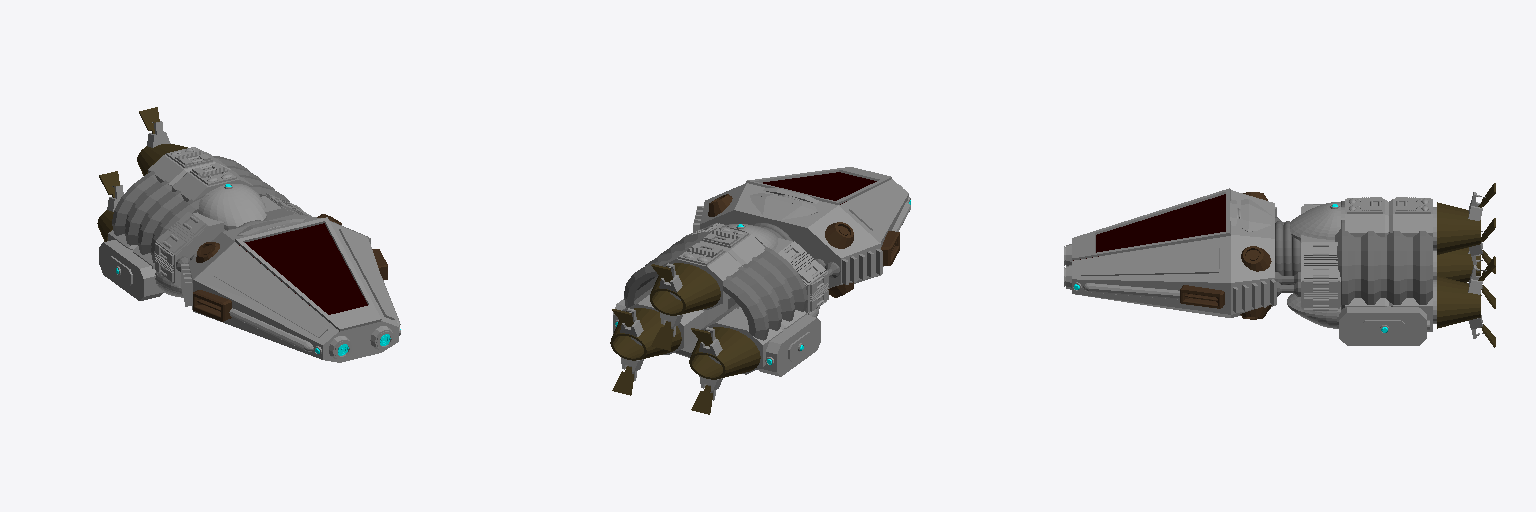
File: pod.obj
3 views of the same model, side by side, from view 1: azimuth 30°, elevation 25°; view 2: azimuth 150°, elevation 25°; view 3: azimuth 270°, elevation 25° (orthographic).
Parts seen in each view (by area): view 1: 3DSMesh_4_4, 3DSMesh_5_5, 3DSMesh_0_0, 3DSMesh_7_7, 3DSMesh_6_6, 3DSMesh_1_1; view 2: 3DSMesh_4_4, 3DSMesh_6_6, 3DSMesh_7_7, 3DSMesh_5_5, 3DSMesh_0_0, 3DSMesh_1_1; view 3: 3DSMesh_4_4, 3DSMesh_7_7, 3DSMesh_6_6, 3DSMesh_5_5, 3DSMesh_0_0, 3DSMesh_1_1.
Boxes of the visible parts, x1,y1,x2,y2 form: 3DSMesh_4_4: [99, 121, 400, 362]; 3DSMesh_5_5: [155, 147, 400, 351]; 3DSMesh_0_0: [239, 223, 367, 314]; 3DSMesh_7_7: [112, 156, 289, 271]; 3DSMesh_6_6: [97, 107, 187, 241]; 3DSMesh_1_1: [193, 214, 387, 321]; 3DSMesh_4_4: [613, 167, 910, 400]; 3DSMesh_6_6: [610, 263, 760, 414]; 3DSMesh_7_7: [624, 223, 840, 357]; 3DSMesh_5_5: [663, 184, 910, 374]; 3DSMesh_0_0: [763, 172, 876, 204]; 3DSMesh_1_1: [708, 194, 899, 297]; 3DSMesh_4_4: [1064, 188, 1486, 345]; 3DSMesh_7_7: [1275, 201, 1432, 309]; 3DSMesh_6_6: [1437, 183, 1495, 347]; 3DSMesh_5_5: [1081, 198, 1430, 308]; 3DSMesh_0_0: [1073, 194, 1225, 260]; 3DSMesh_1_1: [1180, 192, 1271, 319].
Size of the model in its own units: 0.0486 by 0.0343 by 0.098.